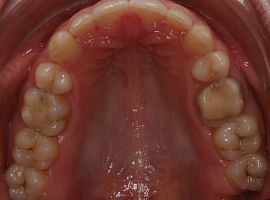UL1BC_healthy: (193, 54, 230, 80)
UL1M_decay: (216, 123, 260, 156)
UL2BC_healthy: (198, 81, 243, 120)
UL2M_decay: (227, 156, 267, 190)
ULCI_healthy: (132, 1, 167, 23)
ULC_healthy: (184, 27, 216, 52)
ULLI_healthy: (166, 9, 191, 29)
UR1BC_healthy: (34, 65, 72, 94)
UR1M_decay: (11, 129, 58, 167)
UR2BC_healthy: (24, 89, 69, 134)
UR2M_decay: (5, 167, 47, 198)
URCI_healthy: (94, 1, 130, 23)
URC_healthy: (49, 32, 79, 58)
URLI_healthy: (71, 15, 96, 35)
